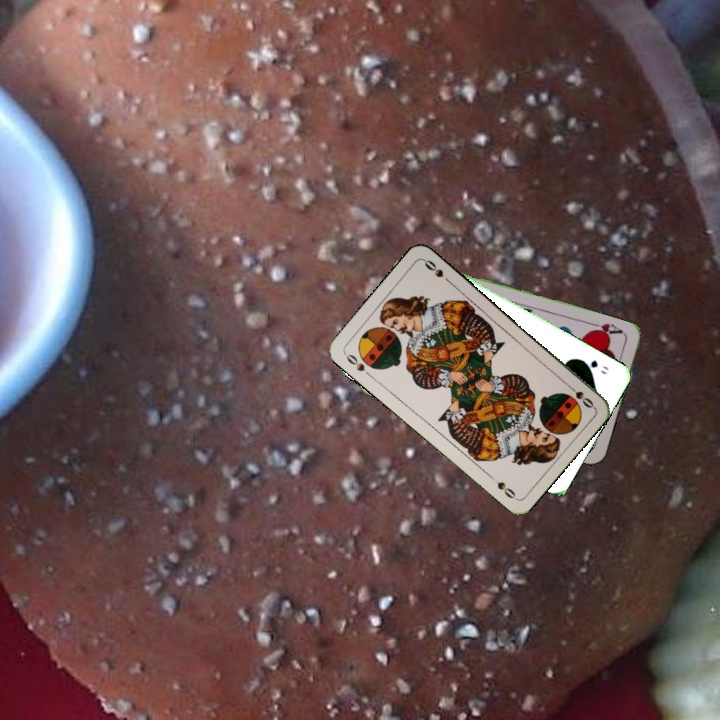GO: (576, 356, 611, 377)
HA: (587, 319, 627, 339)
SO: (562, 380, 596, 411), (340, 349, 374, 380)
